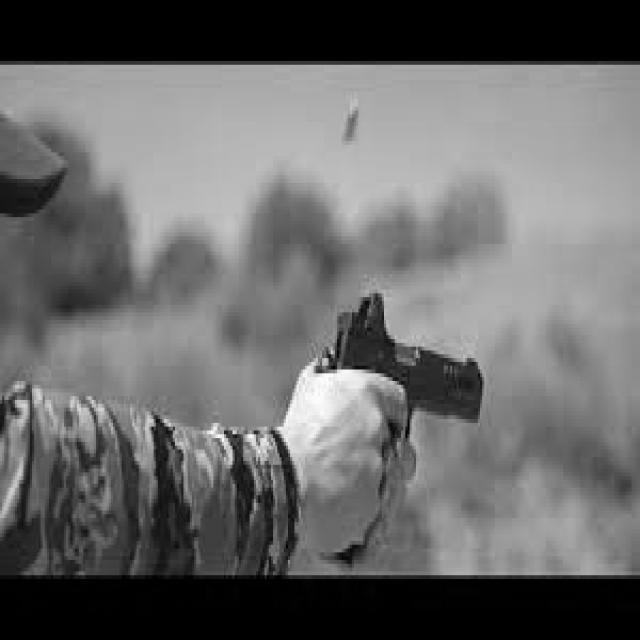gun: (331, 294, 486, 568)
